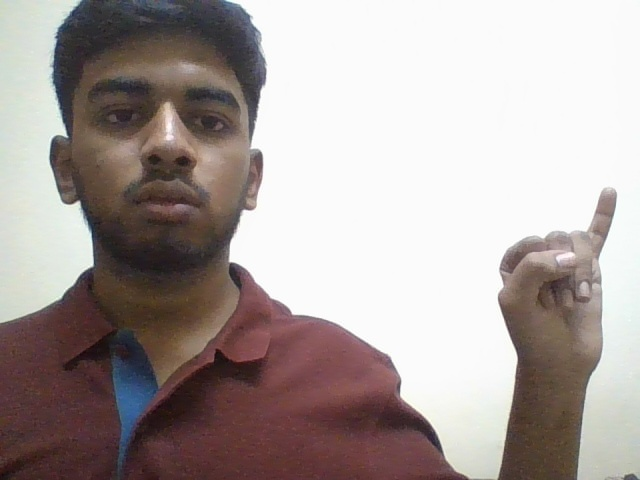I: (477, 165, 640, 389)
